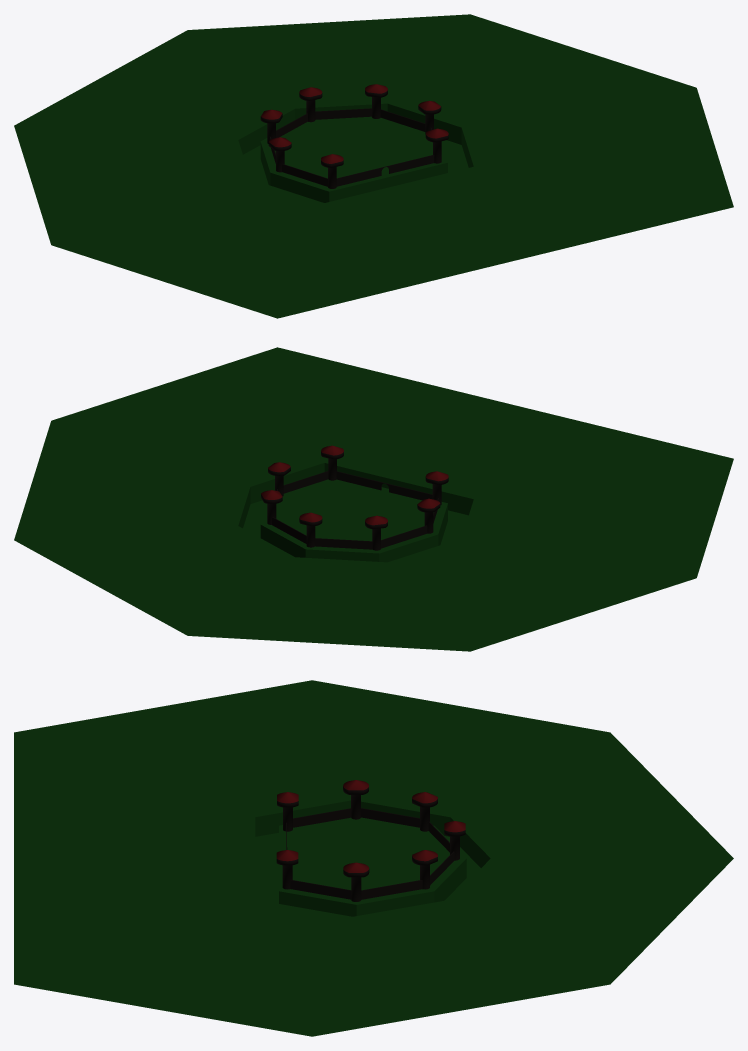
Rendered from world.obj.
3 renders of one model, top to bottom at view 1: azimuth 30°, elevation 25°; view 2: azimuth 150°, elevation 25°; view 3: azimuth 270°, elevation 25°, orthographic. The views are drawn at different scales.
Parts seen in each view (by area): view 1: Circle.008_Circle.002, Circle; view 2: Circle.008_Circle.002, Circle; view 3: Circle.008_Circle.002, Circle, Circle.003_Circle.001, Circle.004_Circle.001.
Boxes of the visible parts, <box> form: Circle.008_Circle.002: <box>14,14,733,318</box>; Circle: <box>269,108,434,186</box>; Circle.008_Circle.002: <box>14,347,733,651</box>; Circle: <box>272,471,438,549</box>; Circle.008_Circle.002: <box>14,680,733,1036</box>; Circle: <box>286,808,454,899</box>; Circle.003_Circle.001: <box>343,862,369,901</box>; Circle.004_Circle.001: <box>343,780,368,819</box>.
Bounding box in the file's own units: 845 × 63.05 × 721.
